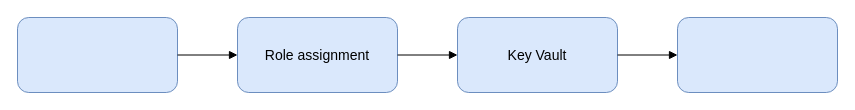
Image size: 855x110. Some labels were removed from this diagram. Each missing label, with the centre of its shape:
"Entra principal" belongs at pixel 97 54.
"Private access policy" belongs at pixel 757 54.
